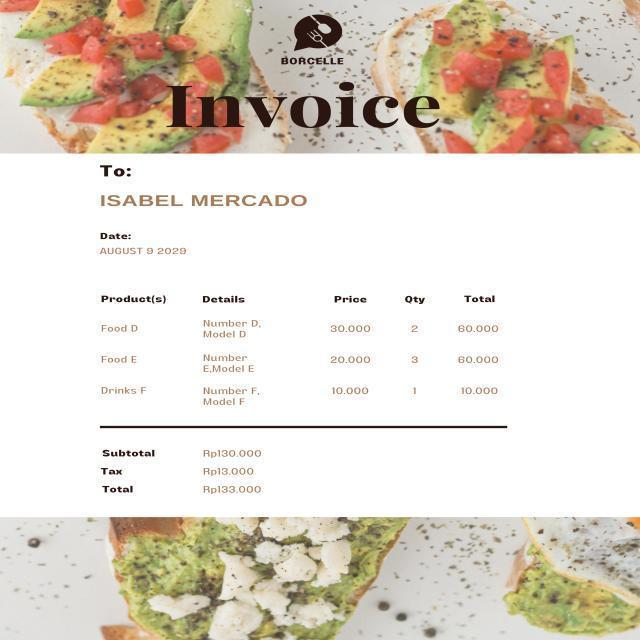ROI: (81, 274, 532, 410), (159, 82, 454, 138), (72, 154, 341, 213), (94, 439, 287, 507), (271, 14, 371, 70), (84, 226, 190, 263)
